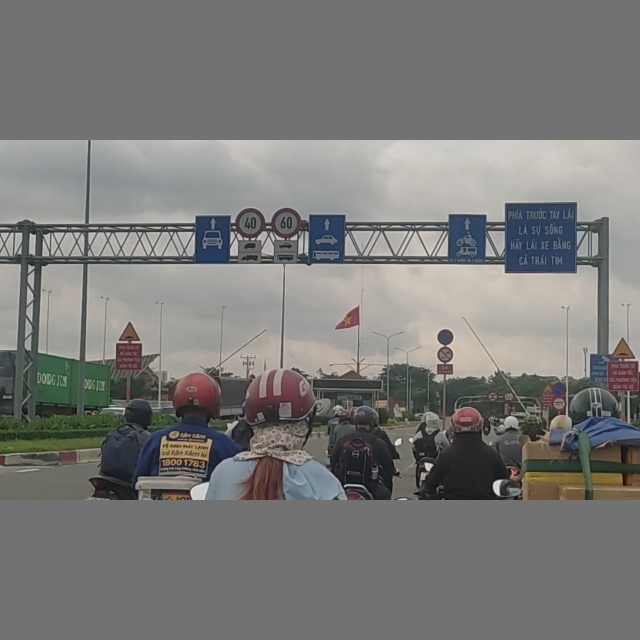Camera: (589, 352, 611, 382)
P.107: (504, 390, 515, 402), (488, 391, 499, 402)
P.111: (437, 345, 454, 363)
P.127*40: (235, 207, 265, 239)
P.127*60: (271, 207, 303, 237)
P.129: (553, 397, 567, 410)
P.130: (437, 328, 454, 345)
P.131a: (553, 381, 567, 396)
W.221b: (612, 337, 637, 360), (118, 318, 141, 341), (542, 381, 553, 393)
